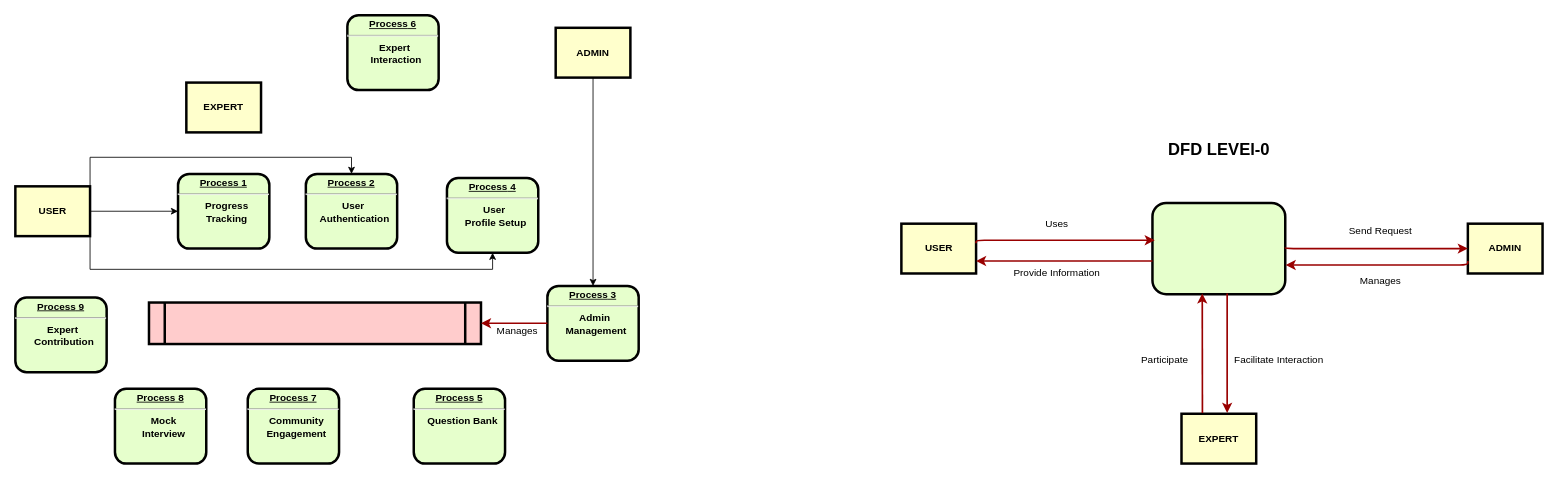
This 1558x479 diagram has some shape labels left out. Each missing label, with the centre of its shape:
CLOUD DATABASE: point (314, 323)
INTERVIEW PREPARATION APPLICATION: point (1218, 248)
